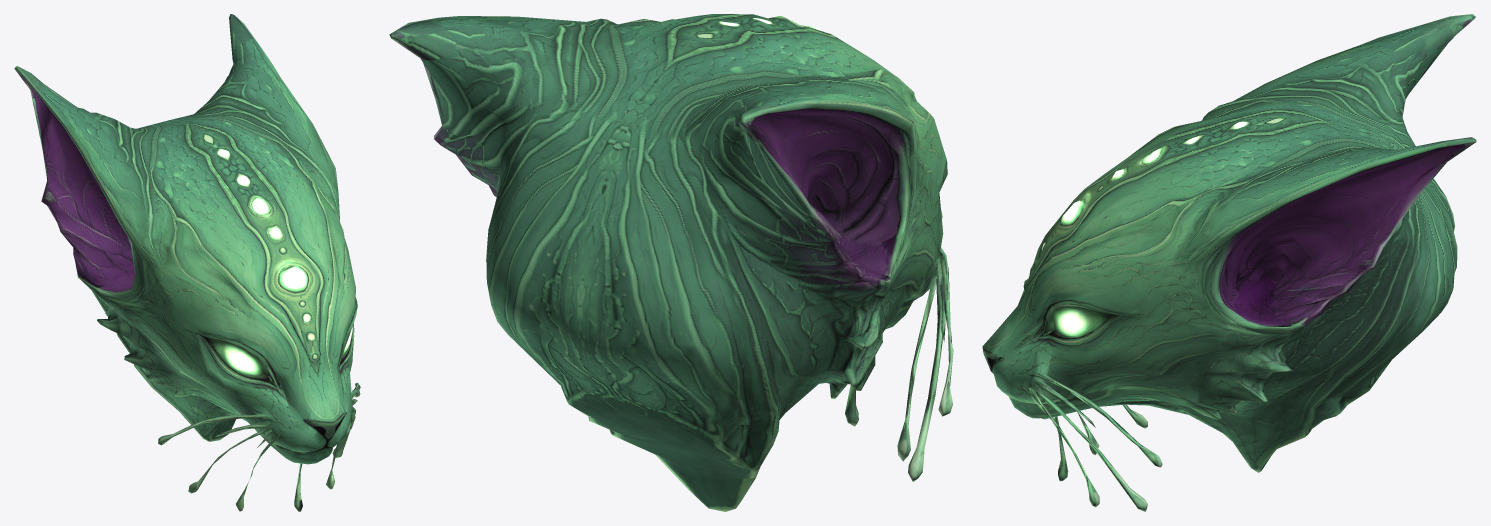
File: Norminette.glb
3 views of the same model, side by side, from view 1: azimuth 30°, elevation 25°; view 2: azimuth 150°, elevation 25°; view 3: azimuth 270°, elevation 25° (orthographic). The views are drawn at different scales.
Visible parts, largest first — view 1: Mesh_0; view 2: Mesh_0; view 3: Mesh_0.
Boxes of the visible parts, bbox=[...] form: Mesh_0: bbox=[14, 14, 360, 511]; Mesh_0: bbox=[389, 14, 953, 511]; Mesh_0: bbox=[982, 14, 1476, 511].
Size of the model in its own units: 1.32 by 1.73 by 1.91.
Materials: 1 (1 with a texture image).
